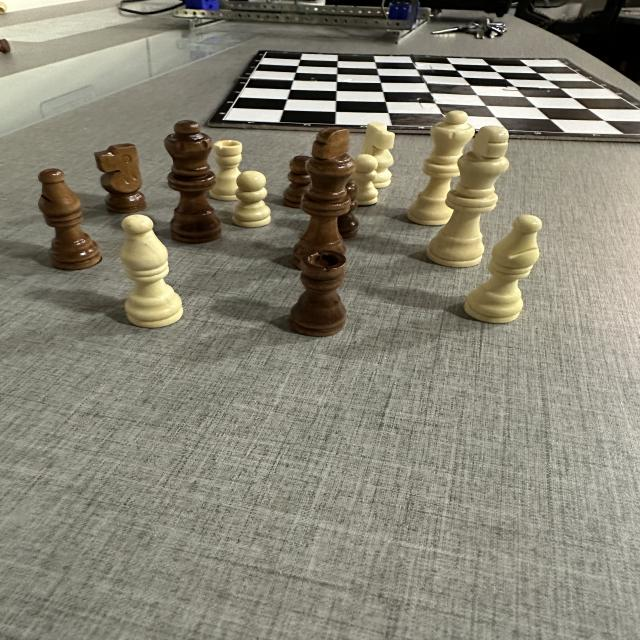Black-Bishop: (38, 168, 103, 270)
Black-King: (291, 125, 352, 270)
Black-Knight: (95, 143, 147, 213)
Black-Pawn: (282, 155, 313, 207), (338, 181, 357, 238)
Black-Queen: (165, 121, 222, 243)
Black-Rook: (288, 251, 347, 337)
White-Bishop: (464, 214, 542, 323), (119, 214, 183, 328)
White-King: (424, 126, 510, 268)
White-Knight: (360, 121, 395, 188)
White-Pawn: (232, 171, 272, 228), (348, 155, 379, 206)
White-Queen: (408, 110, 472, 227)
White-Rook: (209, 140, 244, 202)
